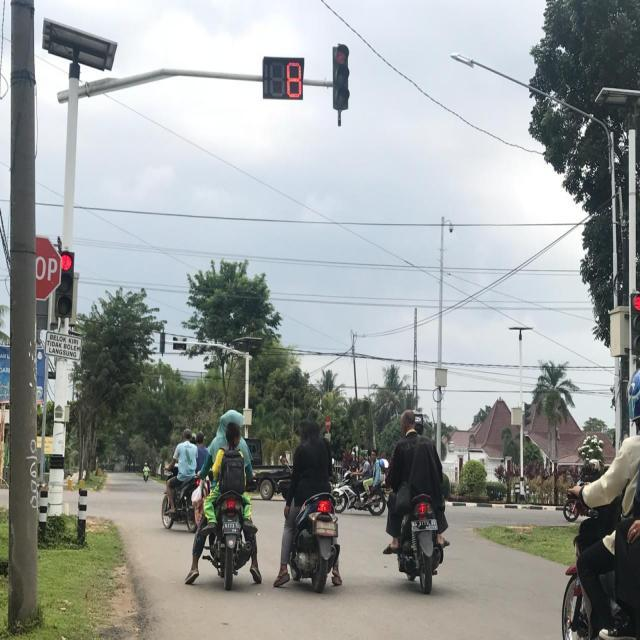red_light: (57, 249, 72, 319)
